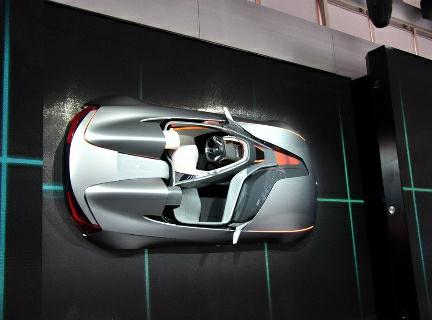宝马-ConnectedDrive: (60, 97, 321, 256)
